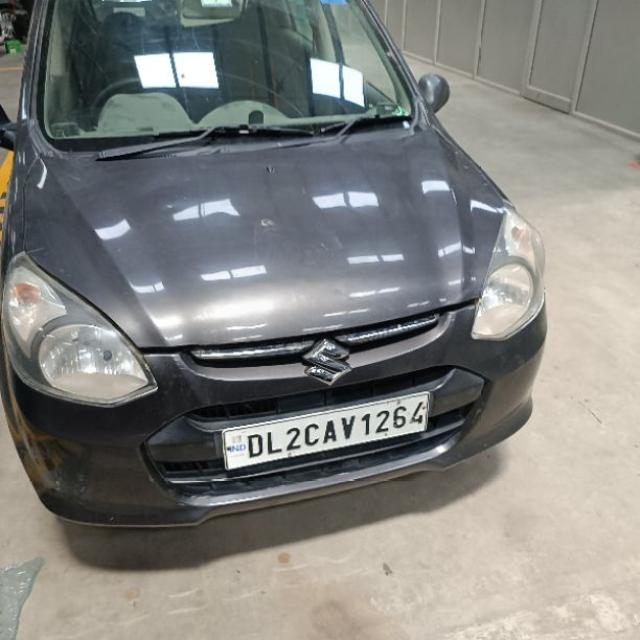license_plate: (220, 389, 430, 472)
